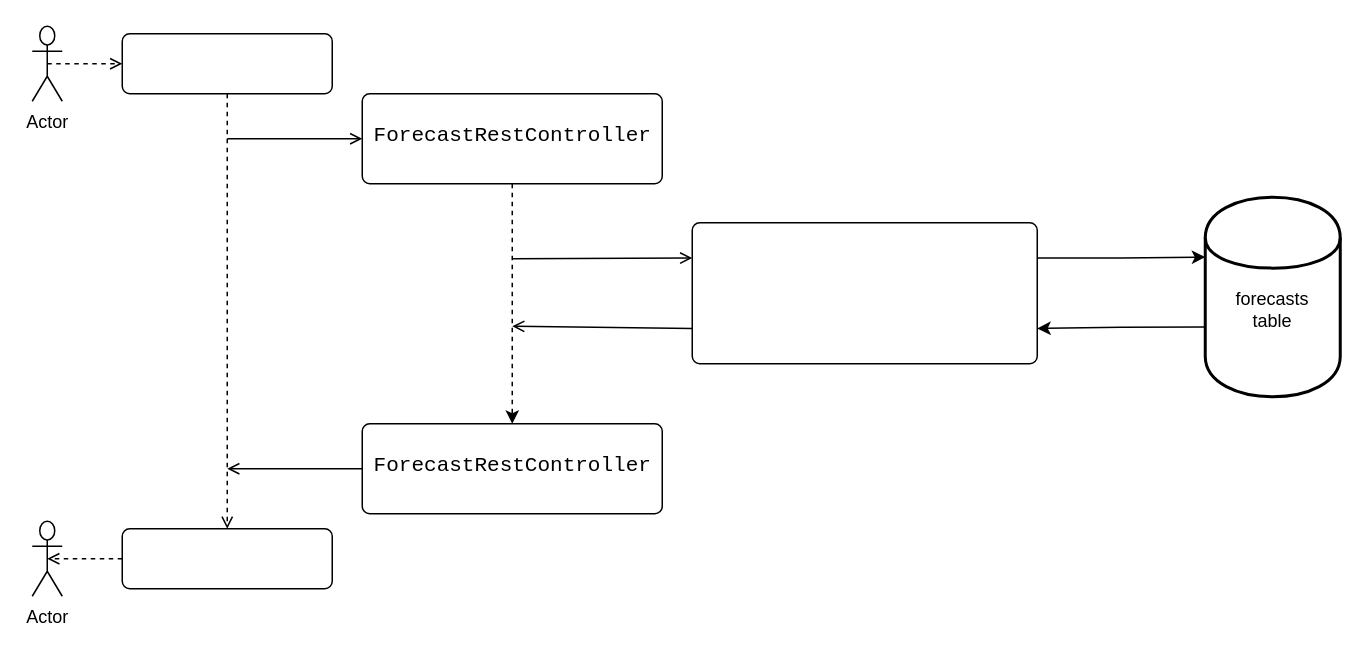
The diagram is 1367 pixels wide and 654 high, and some of its shapes have lost their labels. Each missing label, with the box of its shape:
forecastService getStatisticsFor (): (691, 221, 1037, 364)
GET request: (121, 32, 332, 94)
JSON response: (121, 527, 332, 589)
